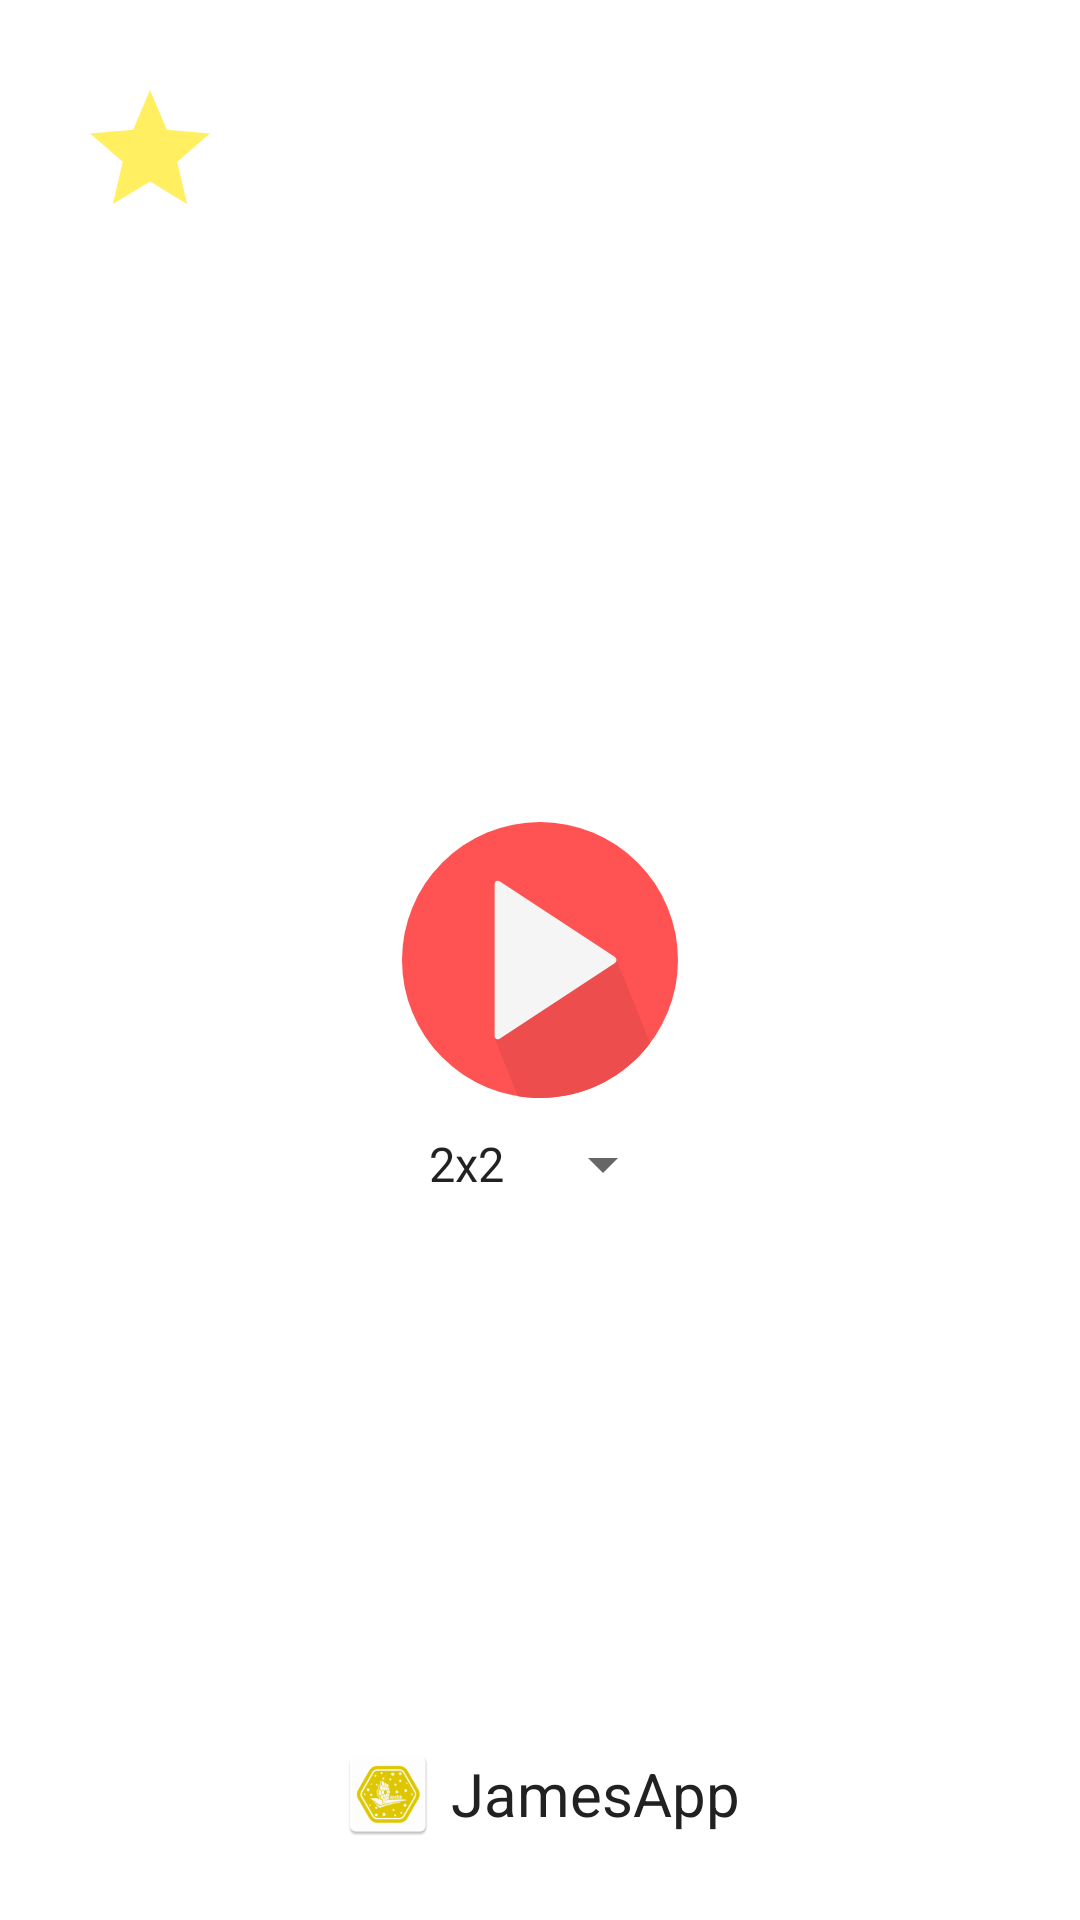

Screen size 1080px×1920px. Icon name, then its box in pixels as (x1=x1, y1=y1, x2=x2, y2=y2):
play: (x1=402, y1=822, x2=678, y2=1098)
star: (x1=90, y1=90, x2=210, y2=204)
